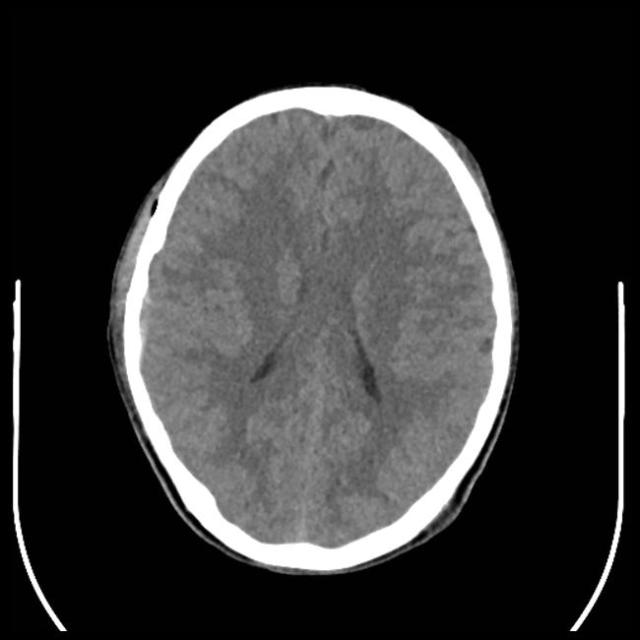lesion: (105, 83, 522, 575)
